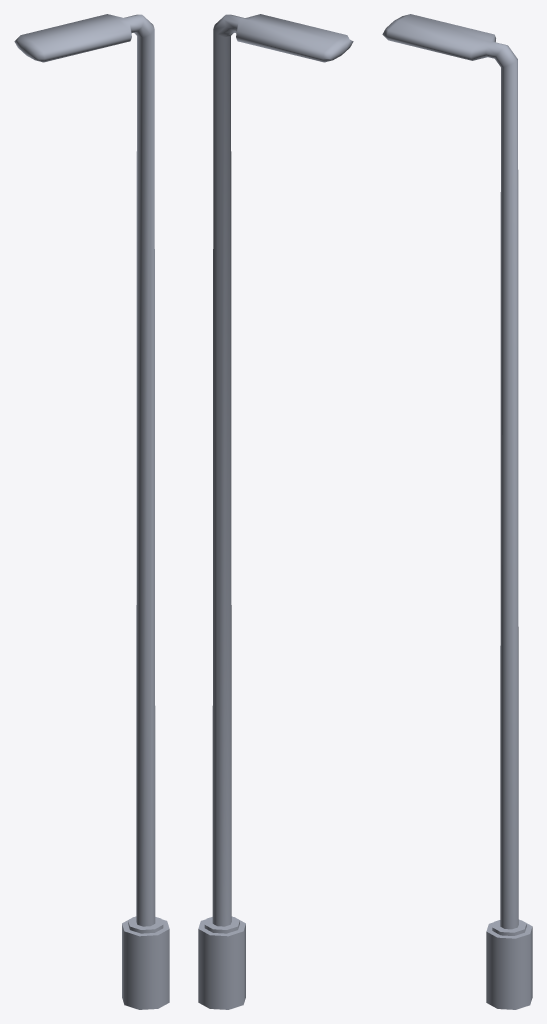
3 views of the same model, side by side, from view 1: azimuth 30°, elevation 25°; view 2: azimuth 150°, elevation 25°; view 3: azimuth 330°, elevation 25° (orthographic). The views are drawn at different scales.
Visible parts, largest first — view 1: Streetlights; view 2: Streetlights; view 3: Streetlights.
Part boxes in pixels (x1,y1,x2,y2): Streetlights: (14, 14, 169, 1009); Streetlights: (198, 14, 353, 1009); Streetlights: (382, 14, 532, 1009).
Size of the model in its own units: 1.13 by 7.5 by 0.3613.
2 materials, 1 textured.
